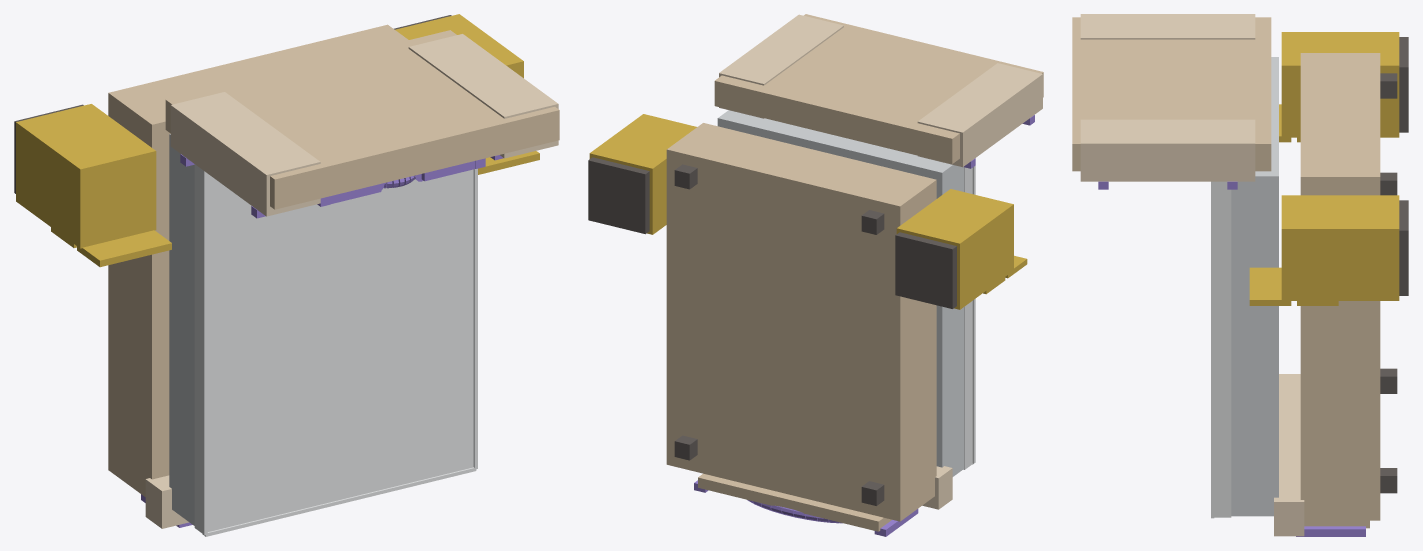
The model's file is tufted-purple-trim-bed.glb.
The picture shows the model from 3 angles, left to right: view 1: azimuth 30°, elevation 25°; view 2: azimuth 150°, elevation 25°; view 3: azimuth 270°, elevation 25°; orthographic projection. The views are drawn at different scales.
Parts seen in each view (by area): view 1: Mattress top quilt, Upholstered bed base, Bedside cabinet carcass -1, Footboard padded top roll, Mattress lower body, Footboard purple upright -1; view 2: Upholstered bed base, Bedside cabinet carcass -1, Footboard padded top roll, Bed support foot -0.62--0.86, Mattress lower body, Mattress top quilt, Footboard purple upright -1; view 3: Upholstered bed base, Bedside cabinet carcass -1, Footboard padded top roll, Mattress lower body, Mattress top quilt, Bed support foot -0.62--0.86, Footboard purple upright -1.
Part boxes in pixels (<box>): Mattress top quilt: <box>194,164,477,536</box>; Upholstered bed base: <box>108,24,559,496</box>; Bedside cabinet carcass -1: <box>16,14,539,267</box>; Footboard padded top roll: <box>145,34,558,528</box>; Mattress lower body: <box>169,134,194,525</box>; Footboard purple upright -1: <box>141,154,503,527</box>; Upholstered bed base: <box>666,14,1043,531</box>; Bedside cabinet carcass -1: <box>589,114,1027,309</box>; Footboard padded top roll: <box>719,14,1042,509</box>; Bed support foot -0.62--0.86: <box>588,157,956,505</box>; Mattress lower body: <box>717,110,963,476</box>; Mattress top quilt: <box>963,165,975,469</box>; Footboard purple upright -1: <box>694,115,1034,536</box>; Upholstered bed base: <box>1072,17,1380,528</box>; Bedside cabinet carcass -1: <box>1249,32,1399,305</box>; Footboard padded top roll: <box>1080,14,1304,536</box>; Mattress lower body: <box>1231,57,1278,516</box>; Mattress top quilt: <box>1211,181,1231,518</box>; Bed support foot -0.62--0.86: <box>1380,37,1408,493</box>; Footboard purple upright -1: <box>1098,181,1365,536</box>.
Size of the model in its own units: 2.46 by 2.39 by 1.78.
